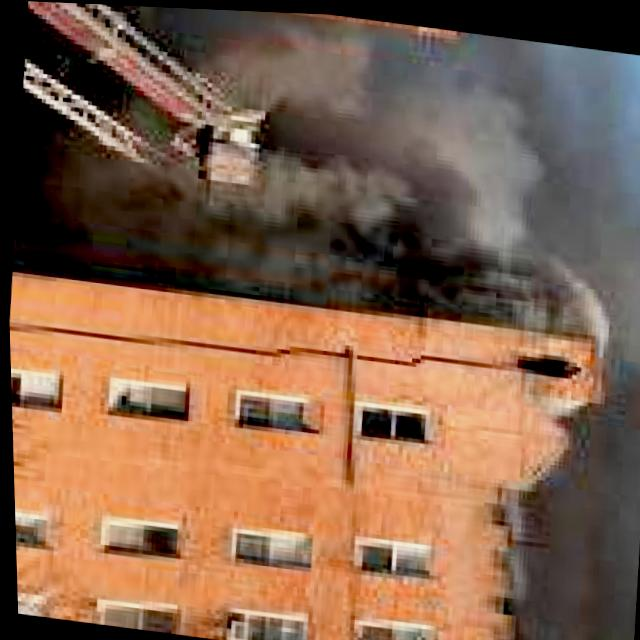smoke: (1, 0, 640, 366), (514, 440, 640, 640)
